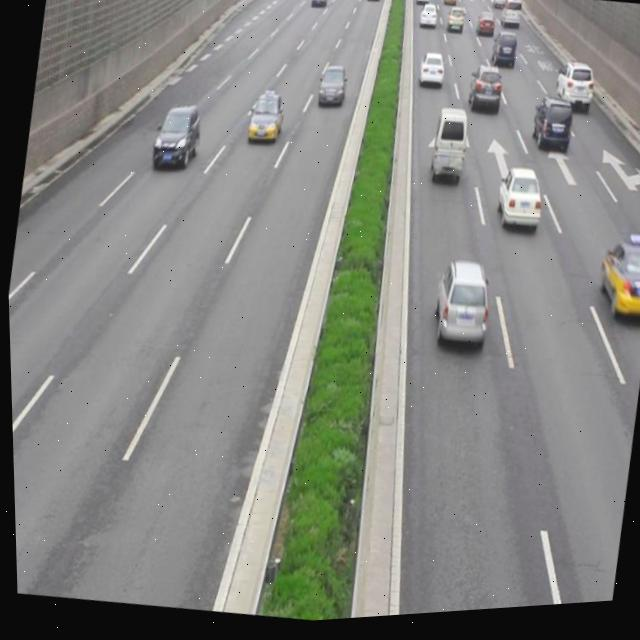car: (425, 264, 492, 360), (588, 237, 640, 333), (489, 169, 544, 246), (148, 105, 203, 172), (525, 98, 572, 164), (549, 68, 594, 121), (244, 90, 285, 148), (464, 66, 505, 121), (315, 64, 346, 111)
truck: (424, 111, 470, 193)
